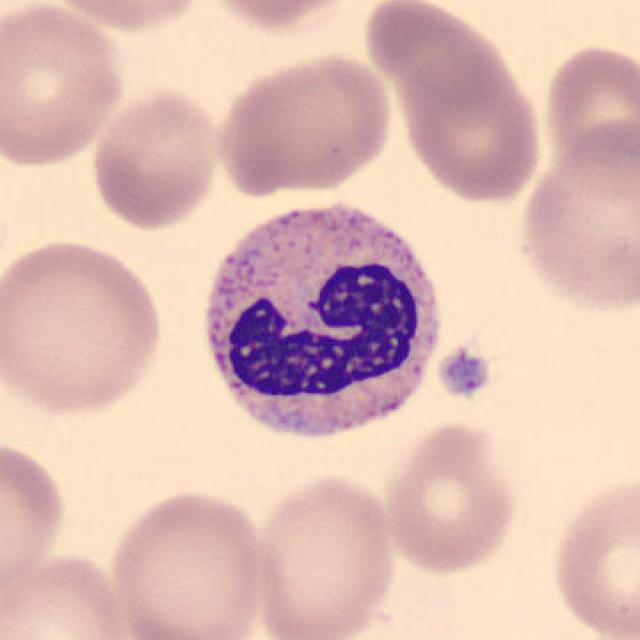Neutrophil: (188, 187, 452, 462)
Platelets: (436, 346, 494, 400)
RBC: (0, 235, 167, 420), (210, 48, 398, 198), (393, 35, 549, 206), (249, 469, 402, 640), (105, 485, 270, 640), (512, 120, 638, 319), (380, 418, 522, 578), (0, 0, 130, 173), (85, 81, 224, 235), (364, 0, 522, 121), (545, 470, 638, 640), (537, 39, 638, 178), (0, 430, 71, 610), (0, 548, 137, 640), (39, 0, 213, 37), (202, 0, 362, 35)
